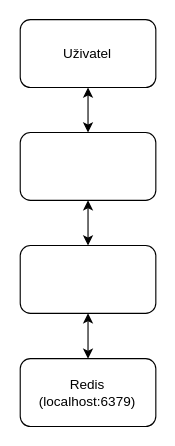
Some shapes in this 175 by 446 pixel diagram are drawn without their labels. Each missing label, with the box of its shape:
Backend (localhost:5000): (19, 244, 156, 313)
Frontend (localhost:3000): (19, 131, 156, 200)
